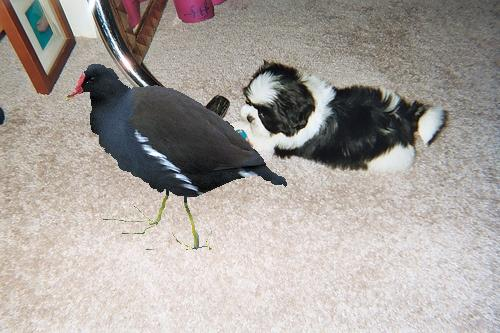tampered: (67, 65, 287, 250)
